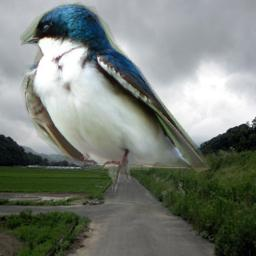Swallow: (20, 1, 211, 195)
